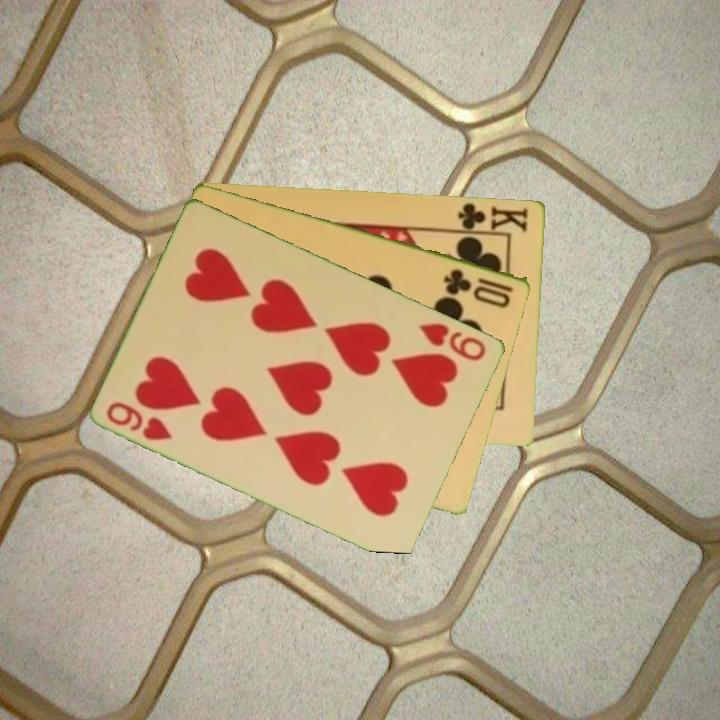10c: (440, 265, 517, 311)
9h: (103, 398, 176, 444), (416, 319, 489, 364)
Kc: (451, 199, 531, 236)
